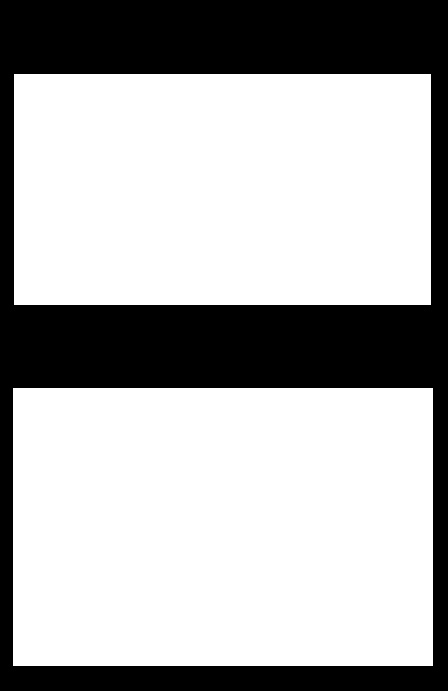table: (13, 388, 432, 665), (14, 74, 430, 304)
